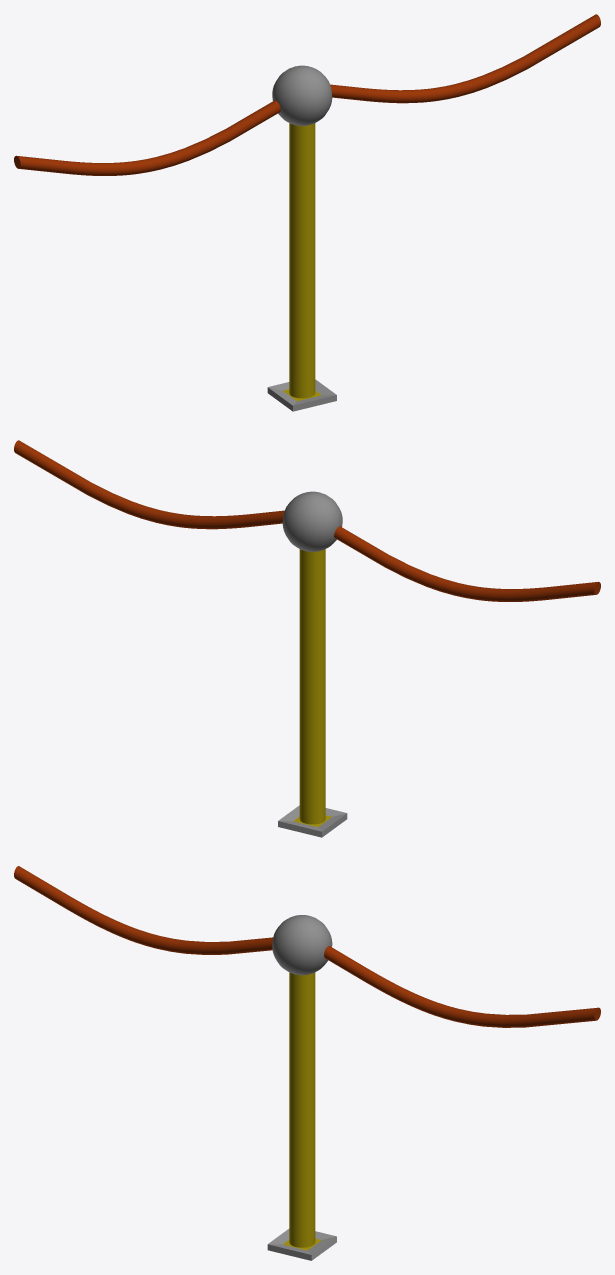
File: Rail_2 Sided.fbx
3 renders of one model, top to bottom at view 1: azimuth 30°, elevation 25°; view 2: azimuth 150°, elevation 25°; view 3: azimuth 330°, elevation 25°, orthographic.
Visible parts, largest first — view 1: pCylinder1; view 2: pCylinder1; view 3: pCylinder1.
Boxes of the visible parts, x1,y1,x2,y2 form: pCylinder1: (14, 14, 600, 411); pCylinder1: (14, 440, 600, 837); pCylinder1: (14, 866, 600, 1260).
Size of the model in its own units: 13.19 by 7.14 by 1.19.
